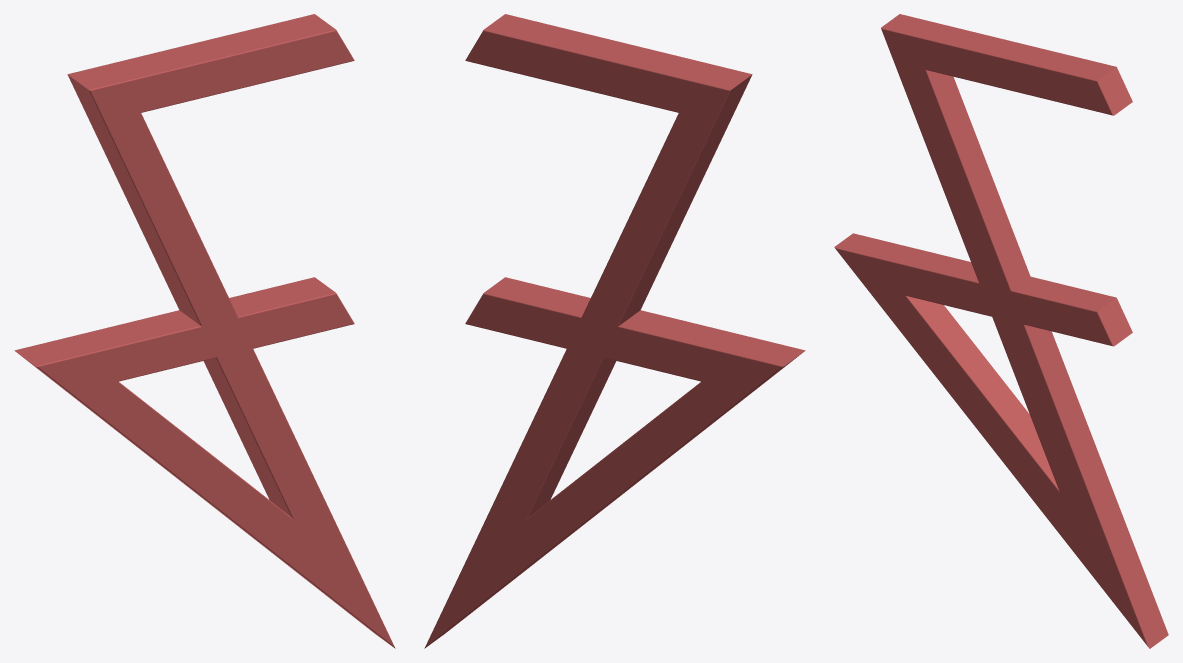
Rendered from flokka.gltf.
3 renders of one model, left to right at view 1: azimuth 30°, elevation 25°; view 2: azimuth 150°, elevation 25°; view 3: azimuth 330°, elevation 25°, orthographic. The views are drawn at different scales.
Parts seen in each view (by area): view 1: Fill (×2); view 2: Fill (×2); view 3: Fill (×2).
Boxes of the visible parts, <box> form: Fill (×2): <box>14,14,395,648</box>; Fill (×2): <box>424,14,805,648</box>; Fill (×2): <box>834,14,1168,648</box>.
Size of the model in its own units: 0.5944 by 0.9997 by 0.0641.
